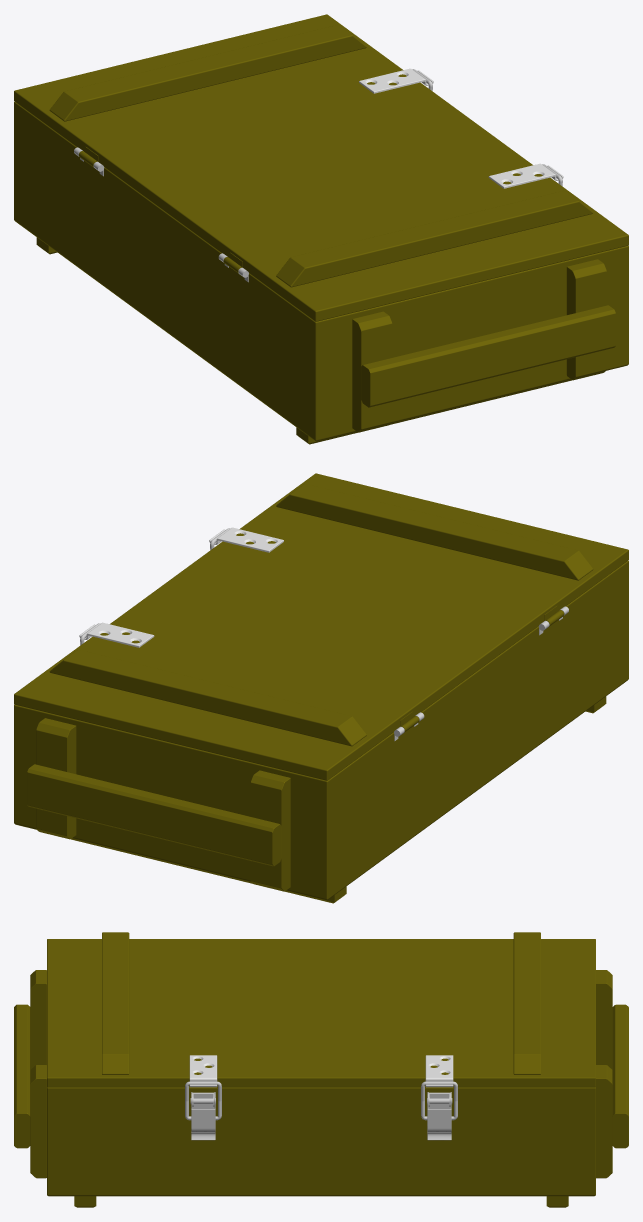
Rendered from wood_crate.fbx.
The picture shows the model from 3 angles, top to bottom: view 1: azimuth 30°, elevation 25°; view 2: azimuth 150°, elevation 25°; view 3: azimuth 270°, elevation 25°; orthographic projection. The views are drawn at different scales.
Parts seen in each view (by area): view 1: Body1.010, Body1.011; view 2: Body1.010, Body1.011; view 3: Body1.010, Body1.011, Body1.006, Body1.007, Body1.008, Body1.009.
Boxes of the visible parts, x1,y1,x2,y2 form: Body1.010: (14,14,628,321); Body1.011: (14,101,628,444); Body1.010: (14,473,628,780); Body1.011: (14,560,628,903); Body1.010: (47,932,595,1087); Body1.011: (14,970,628,1207); Body1.006: (427,1092,452,1140); Body1.007: (190,1092,215,1140); Body1.008: (421,1081,457,1120); Body1.009: (185,1081,221,1120).
Bounding box in the file's own units: 586 × 274 × 1025.
